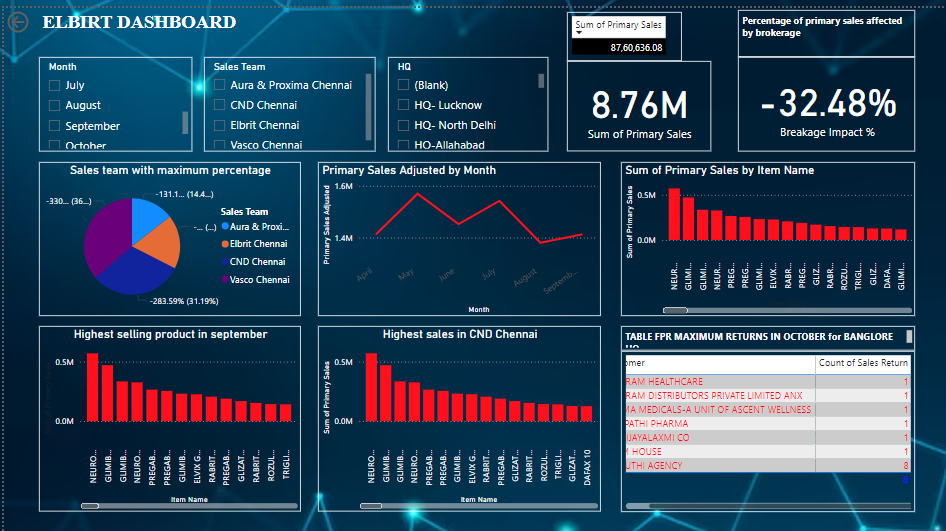

What the dashboard file says about the page in this screenshot:
{"tool":"powerbi","page":{"name":"Page 1","canvas":[1347,749],"ordinal":0},"visuals":[{"type":"slicer","fields":{"Values":["Elbrit Sales Log.Date.Variation.Date Hierarchy.Month"]},"box":[50.7,69.5,218.7,134.7],"z":0},{"type":"columnChart","title":"Highest selling product in september","fields":{"Category":["Elbrit Sales Log.Item Name"],"Y":["Sum(Elbrit Sales Log.Primary Sales)"]},"box":[50.7,454.8,373.7,265.1],"z":1000},{"type":"slicer","fields":{"Values":["Elbrit Sales Log.Sales Team"]},"box":[285.3,69.5,244.8,134.7],"z":2000},{"type":"clusteredColumnChart","title":"Highest sales in CND Chennai","fields":{"Category":["Elbrit Sales Log.Item Name"],"Y":["Sum(Elbrit Sales Log.Primary Sales)"]},"box":[449,454.8,404.1,265.1],"z":3000},{"type":"slicer","fields":{"Values":["Elbrit Sales Log.HQ"]},"box":[548.9,69.5,228.8,134.7],"z":4000},{"type":"tableEx","fields":{"Values":["Elbrit Sales Log.Customer","Count(Elbrit Sales Log.Sales Return)"]},"box":[882.1,489.6,420,230.3],"z":5000},{"type":"actionButton","box":[0,0,100,40],"z":6000},{"type":"pieChart","title":"Sales team with maximum percentage","fields":{"Category":["Elbrit Sales Log.Sales Team"],"Y":["Elbrit Sales Log.Expiry Return %"]},"box":[50.7,220.2,373.7,220.2],"z":7000},{"type":"card","fields":{"Values":["Elbrit Sales Log.Breakage Impact %"]},"box":[1048.6,69.5,253.5,134.7],"z":8000},{"type":"tableEx","fields":{"Values":["Sum(Elbrit Sales Log.Primary Sales)"]},"box":[803.9,5.8,163.7,69.5],"z":9000},{"type":"columnChart","fields":{"Category":["Elbrit Sales Log.Item Name"],"Y":["Sum(Elbrit Sales Log.Primary Sales)"]},"box":[882.1,220.2,420,220.2],"z":10000},{"type":"lineChart","fields":{"Category":["Elbrit Sales Log.Date.Variation.Date Hierarchy.Month"],"Y":["Elbrit Sales Log.Primary Sales Adjusted"]},"box":[449,220.2,404.1,220.2],"z":11000},{"type":"textbox","box":[50.6,0,320.7,53.5],"z":12000},{"type":"textbox","box":[882.1,454.8,420,34.8],"z":13000},{"type":"textbox","box":[1048.6,2.9,253.5,66.6],"z":14000},{"type":"card","fields":{"Values":["Sum(Elbrit Sales Log.Primary Sales)"]},"box":[804.3,75.7,205.7,128.6],"z":14001}]}

Visuals, with their boxes in screenshot pixels (x1, y1, x2, y2), scaled from the page's 1347x749 canvas onto the 946x531 screenshot:
slicer - Elbrit Sales Log.Date.Variation.Date Hierarchy.Month: (36, 49, 189, 145)
"Highest selling product in september" columnChart: (36, 322, 298, 510)
slicer - Elbrit Sales Log.Sales Team: (200, 49, 372, 145)
"Highest sales in CND Chennai" clusteredColumnChart: (315, 322, 599, 510)
slicer - Elbrit Sales Log.HQ: (385, 49, 546, 145)
tableEx - Elbrit Sales Log.Customer x Count(Elbrit Sales Log.Sales Return): (620, 347, 914, 510)
actionButton: (0, 0, 70, 28)
"Sales team with maximum percentage" pieChart: (36, 156, 298, 312)
card - Elbrit Sales Log.Breakage Impact %: (736, 49, 914, 145)
tableEx - Sum(Elbrit Sales Log.Primary Sales): (565, 4, 680, 53)
columnChart - Elbrit Sales Log.Item Name x Sum(Elbrit Sales Log.Primary Sales): (620, 156, 914, 312)
lineChart - Elbrit Sales Log.Date.Variation.Date Hierarchy.Month x Elbrit Sales Log.Primary Sales Adjusted: (315, 156, 599, 312)
textbox: (36, 0, 261, 38)
textbox: (620, 322, 914, 347)
textbox: (736, 2, 914, 49)
card - Sum(Elbrit Sales Log.Primary Sales): (565, 54, 709, 145)
